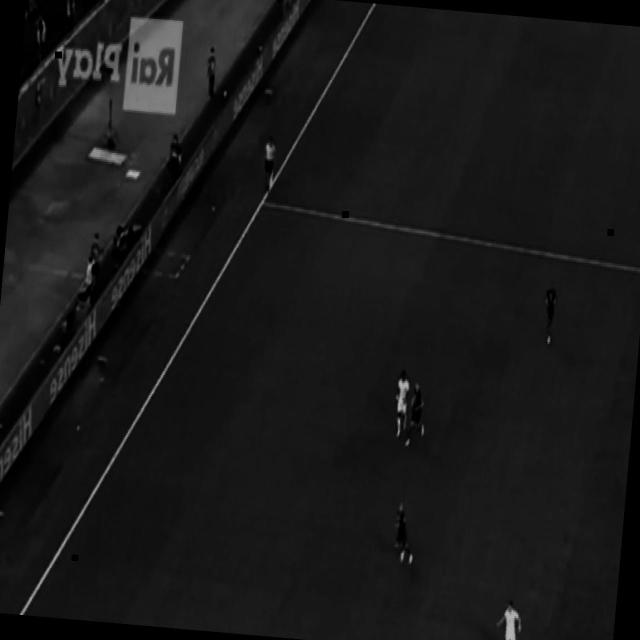ball: (222, 86, 229, 100)
player-white: (390, 499, 420, 569), (402, 379, 430, 451), (390, 368, 413, 442), (539, 279, 561, 348), (492, 597, 525, 640), (260, 132, 280, 196), (349, 634, 368, 640)
